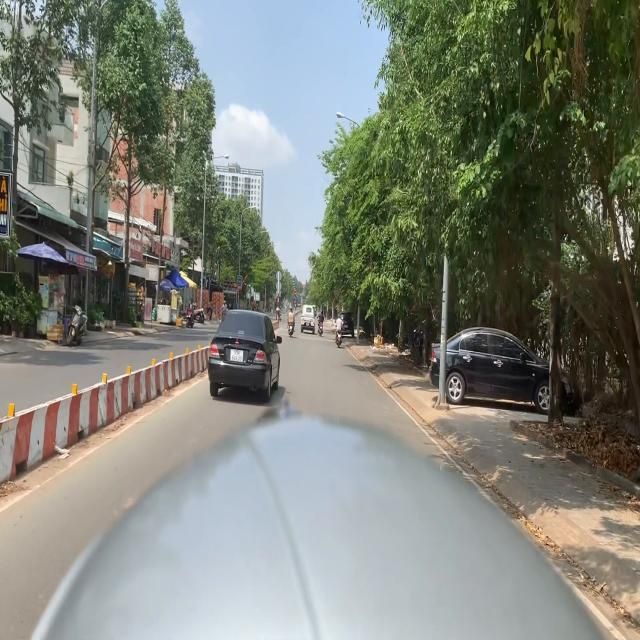bien_cam: (293, 291, 297, 296), (294, 296, 296, 300)
